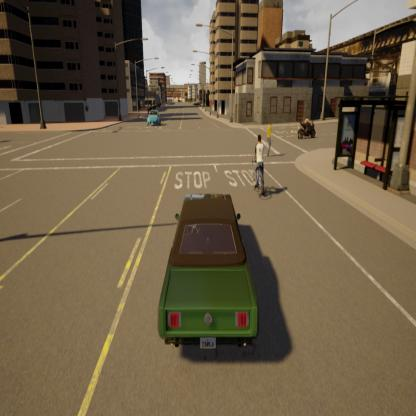Cars: (151, 180, 269, 363), (145, 108, 162, 128)
Pedestrian: (265, 117, 275, 161)
